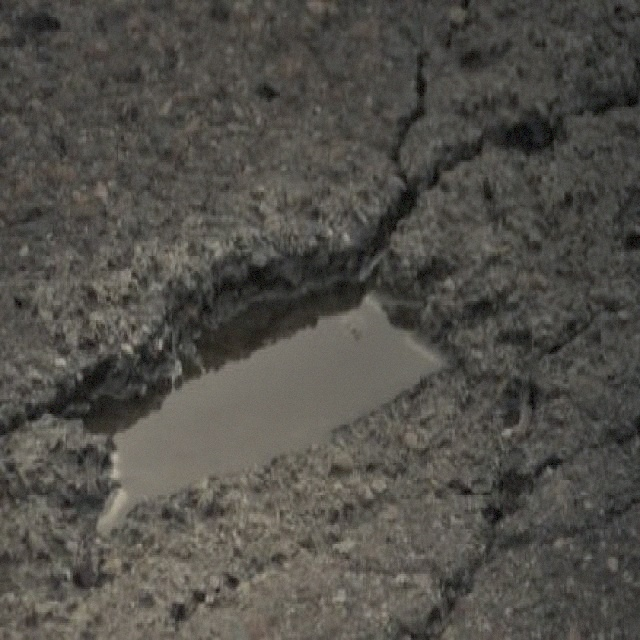pothole: (29, 228, 475, 548)
